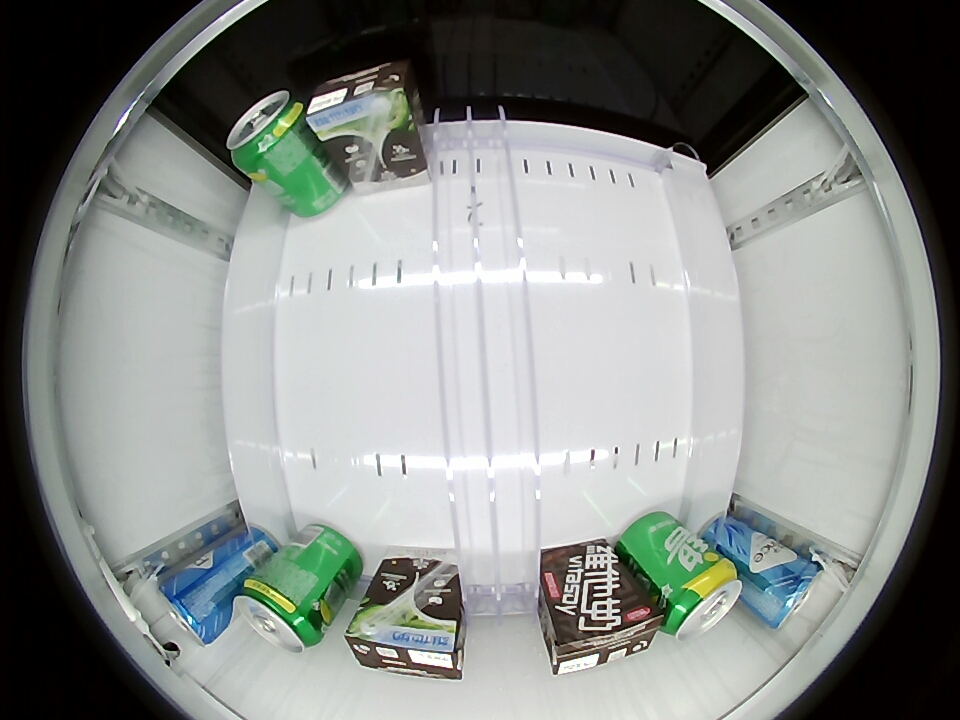qingdaowangzi-2: (158, 564, 230, 645), (754, 553, 825, 629)
weitanai2: (547, 589, 661, 677), (305, 61, 416, 143), (344, 608, 465, 680)
xuebi2: (234, 575, 327, 653), (227, 90, 311, 172), (659, 560, 743, 640)
